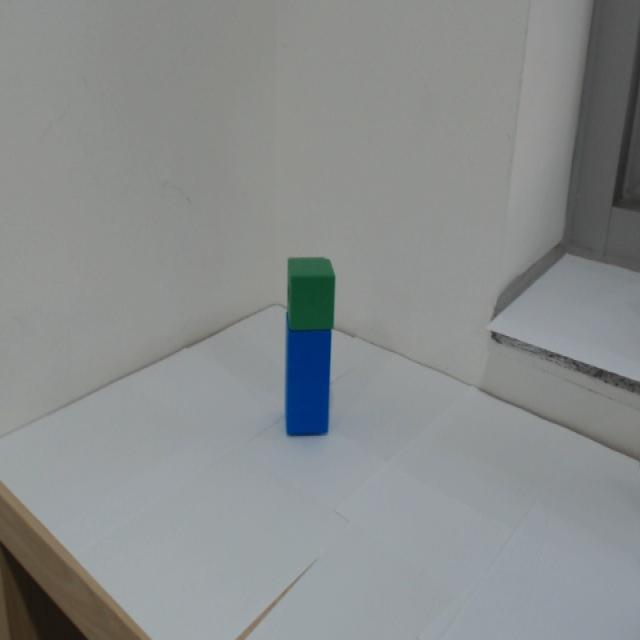cube: (279, 250, 351, 334)
